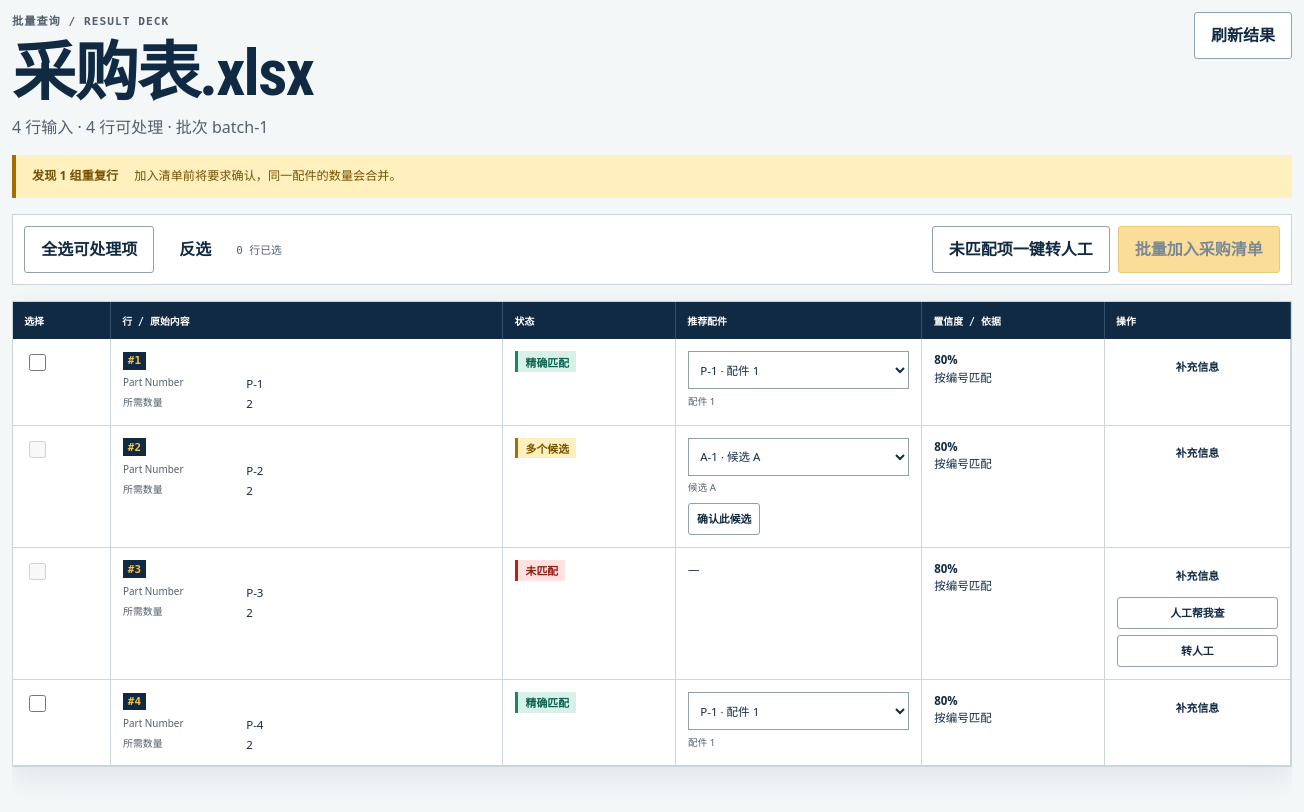
it: BatchResultPage › refreshes a direct result URL and enforces eligible selection plus explicit multiple confirmation
Expected: the heading "采购表.xlsx" is shown, x1=12 y1=39 x2=313 y2=108
Expected: the checkbox named "选择第 2 行" is disabled, x1=29 y1=441 x2=46 y2=458
Select "B-1 · 候选 B" in the dropdown named "第 2 行候选配件" at (799, 457), box x1=688 y1=438 x2=909 y2=476
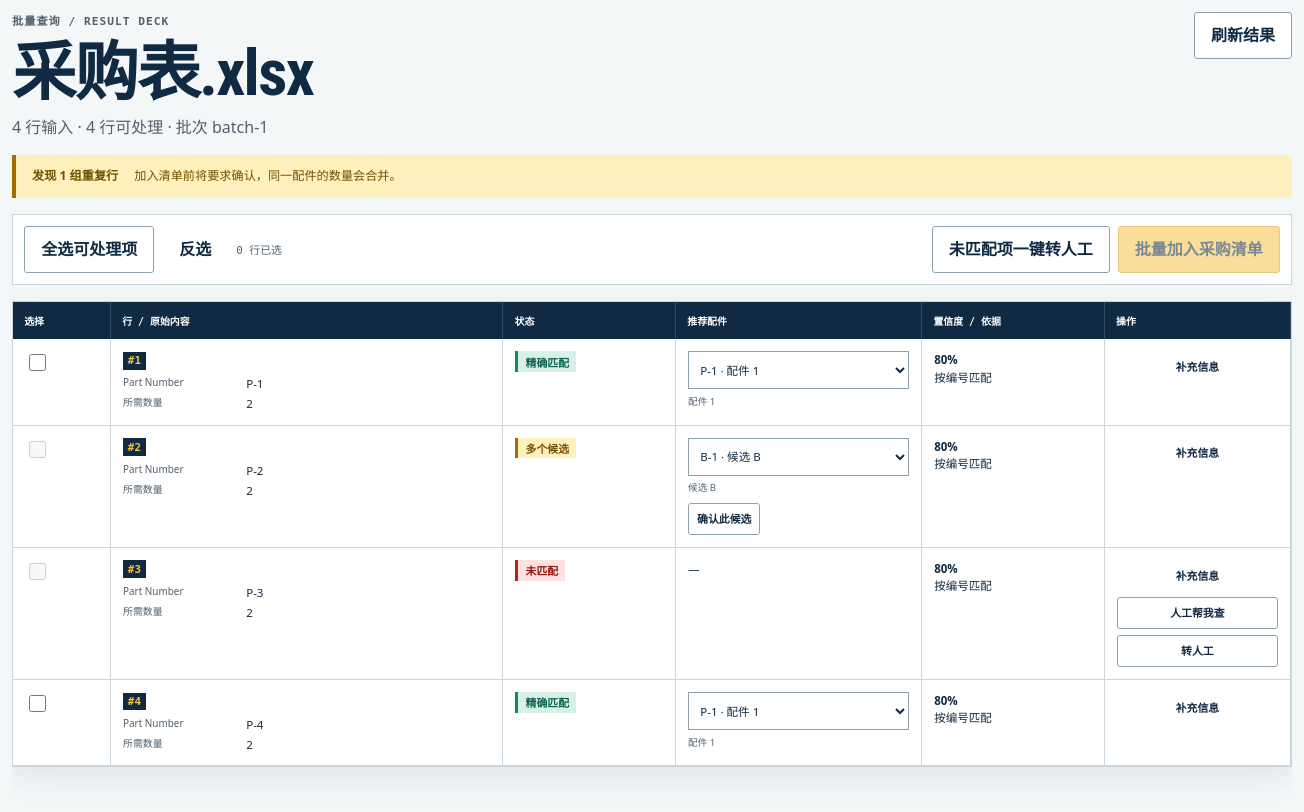
Click the button "确认此候选" at (724, 519), box x1=688 y1=503 x2=760 y2=535
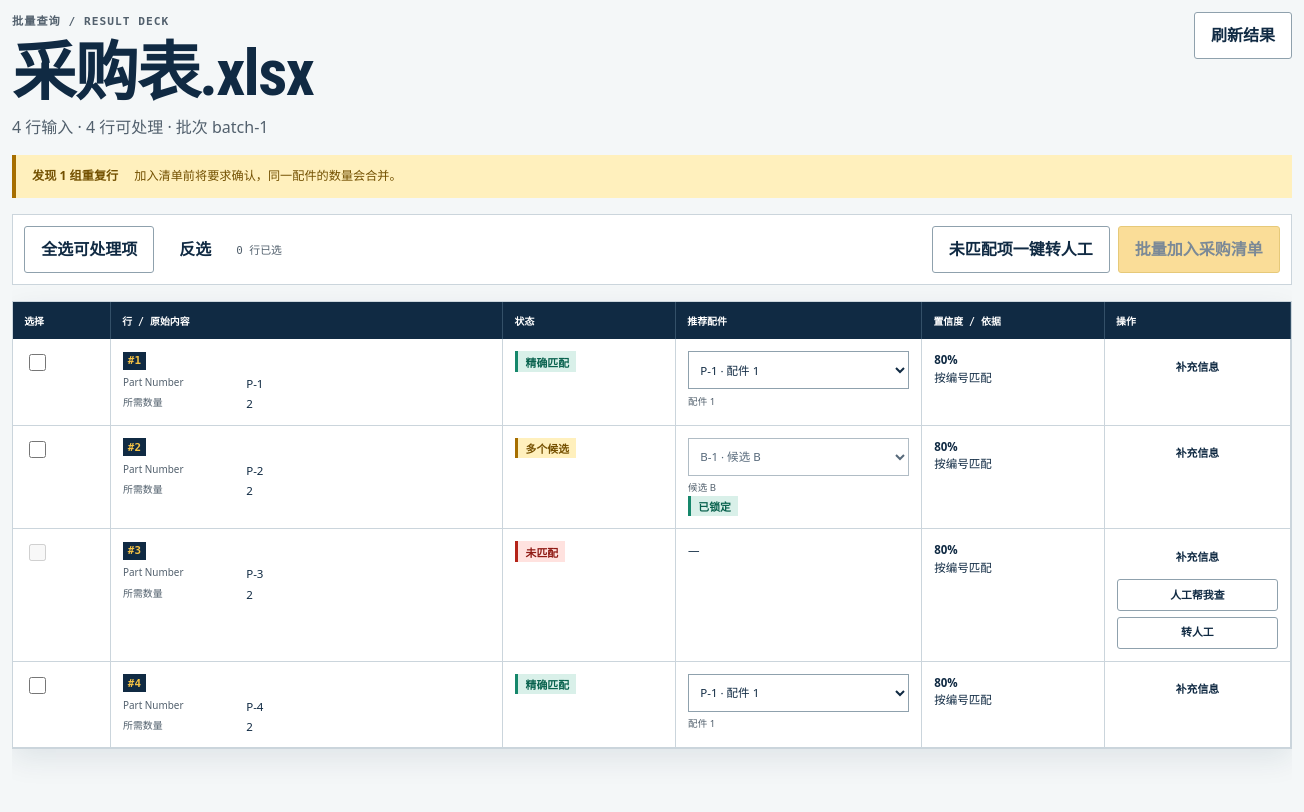
Expected: the checkbox named "选择第 2 行" is enabled, x1=29 y1=441 x2=46 y2=458
Click the button "全选可处理项" at (89, 249), box x1=24 y1=226 x2=154 y2=273
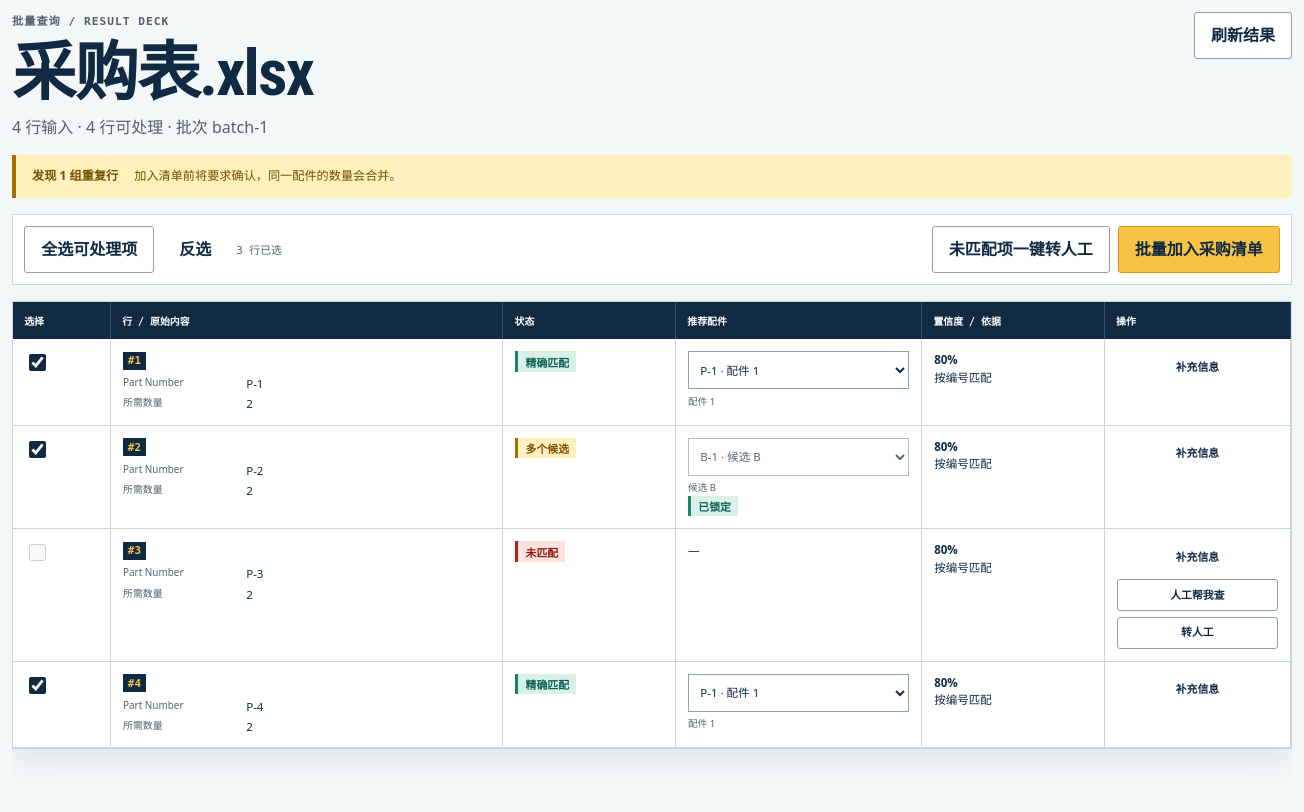
Expected: the text "3 行已选" is shown, x1=236 y1=241 x2=282 y2=257
Click the button "反选" at (195, 249), box x1=162 y1=226 x2=228 y2=273
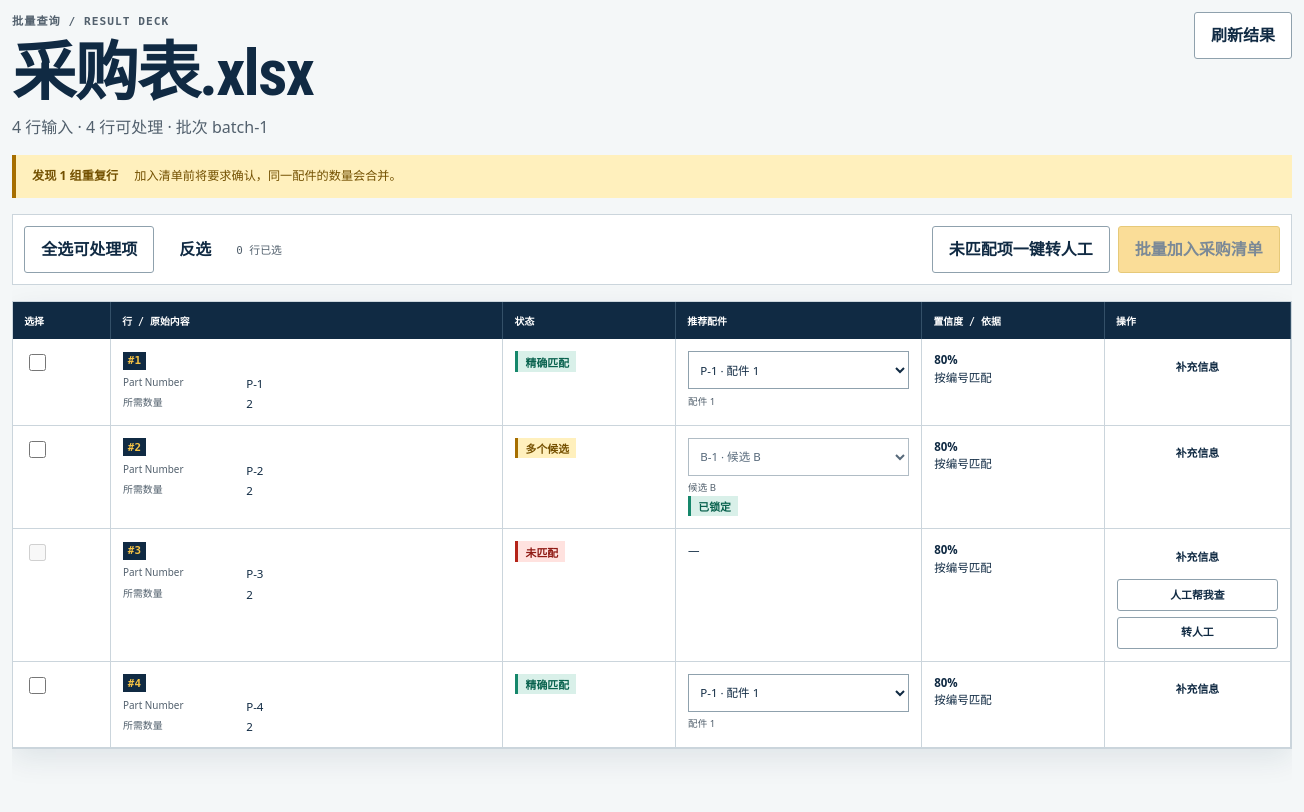
Expected: the text "0 行已选" is shown, x1=236 y1=241 x2=282 y2=257
